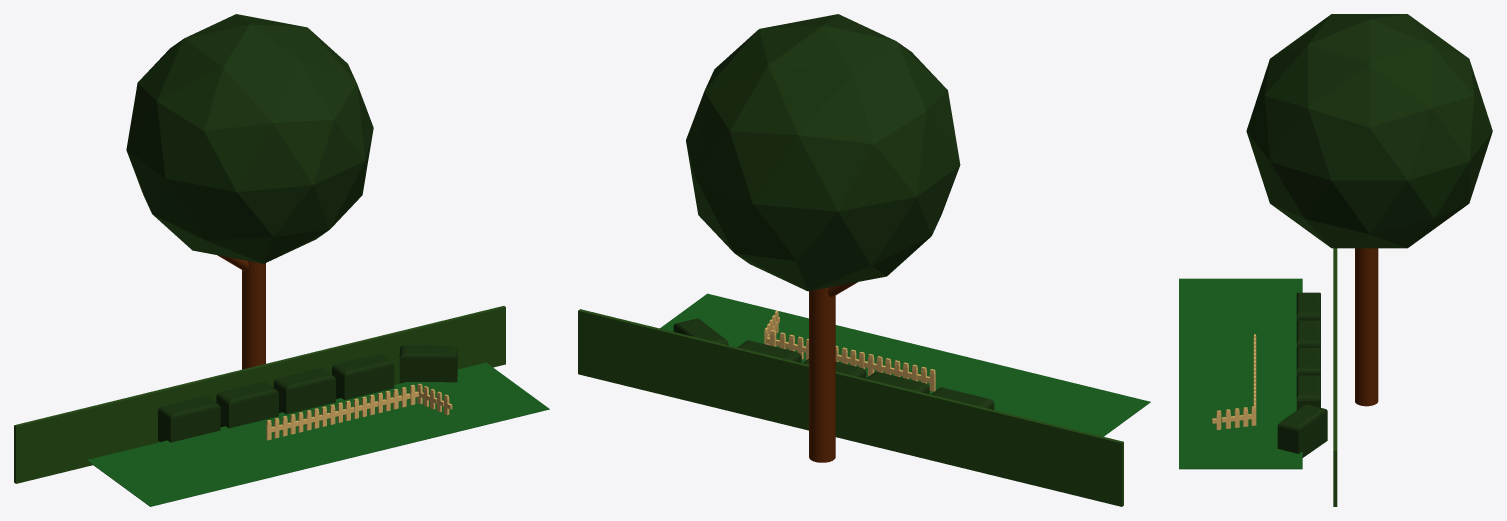
The model's file is skybox1.fbx.
The picture shows the model from 3 angles, left to right: view 1: azimuth 30°, elevation 25°; view 2: azimuth 150°, elevation 25°; view 3: azimuth 270°, elevation 25°; orthographic projection. The views are drawn at different scales.
Parts seen in each view (by area): view 1: Icosphere, Cube, Cube.025, Cube.029, Cube.001, Cylinder; view 2: Icosphere, Cube.025, Cube, Cylinder, Cube.029, Cube.001; view 3: Icosphere, Cube, Cube.029, Cylinder, Cube.025, Cube.001.
Boxes of the visible parts, <box> form: Icosphere: <box>126,14,373,263</box>; Cube: <box>87,362,549,506</box>; Cube.025: <box>14,306,505,483</box>; Cube.029: <box>158,345,457,442</box>; Cube.001: <box>266,383,452,440</box>; Cylinder: <box>242,261,265,369</box>; Icosphere: <box>686,14,960,291</box>; Cube.025: <box>578,309,1123,506</box>; Cube: <box>660,293,1150,436</box>; Cylinder: <box>809,287,835,462</box>; Cube.029: <box>673,318,994,409</box>; Cube.001: <box>764,310,935,391</box>; Icosphere: <box>1246,14,1492,248</box>; Cube: <box>1179,278,1302,469</box>; Cube.029: <box>1277,292,1327,457</box>; Cylinder: <box>1355,248,1378,406</box>; Cube.025: <box>1333,248,1337,506</box>; Cube.001: <box>1212,334,1256,429</box>.
Bounding box in the file's own units: 99130 × 75533 × 56419.
